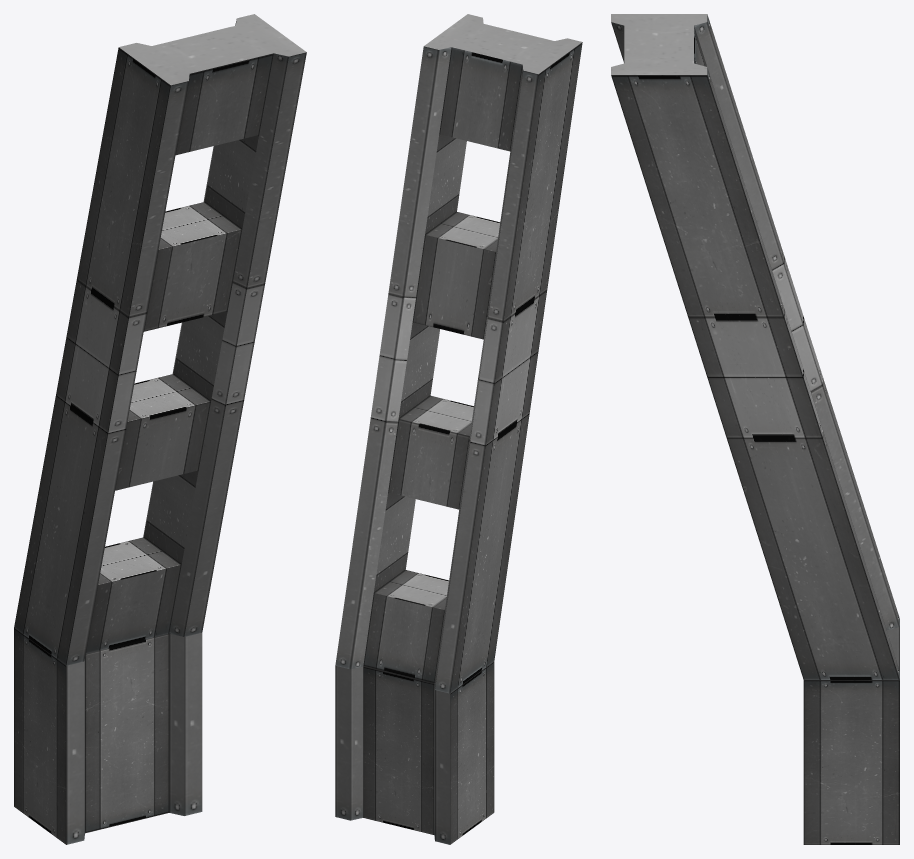
The model's file is Ext_Pylon_Vert_01.FBX.
The picture shows the model from 3 angles, left to right: view 1: azimuth 30°, elevation 25°; view 2: azimuth 150°, elevation 25°; view 3: azimuth 270°, elevation 25°; orthographic projection. The views are drawn at different scales.
Visible parts, largest first — view 1: Ext_Pylon_Vert_01; view 2: Ext_Pylon_Vert_01; view 3: Ext_Pylon_Vert_01.
Part boxes in pixels (x1,y1,x2,y2): Ext_Pylon_Vert_01: [14, 14, 306, 844]; Ext_Pylon_Vert_01: [335, 14, 582, 844]; Ext_Pylon_Vert_01: [611, 14, 899, 844].
Size of the model in its own units: 143 by 838 by 285.
